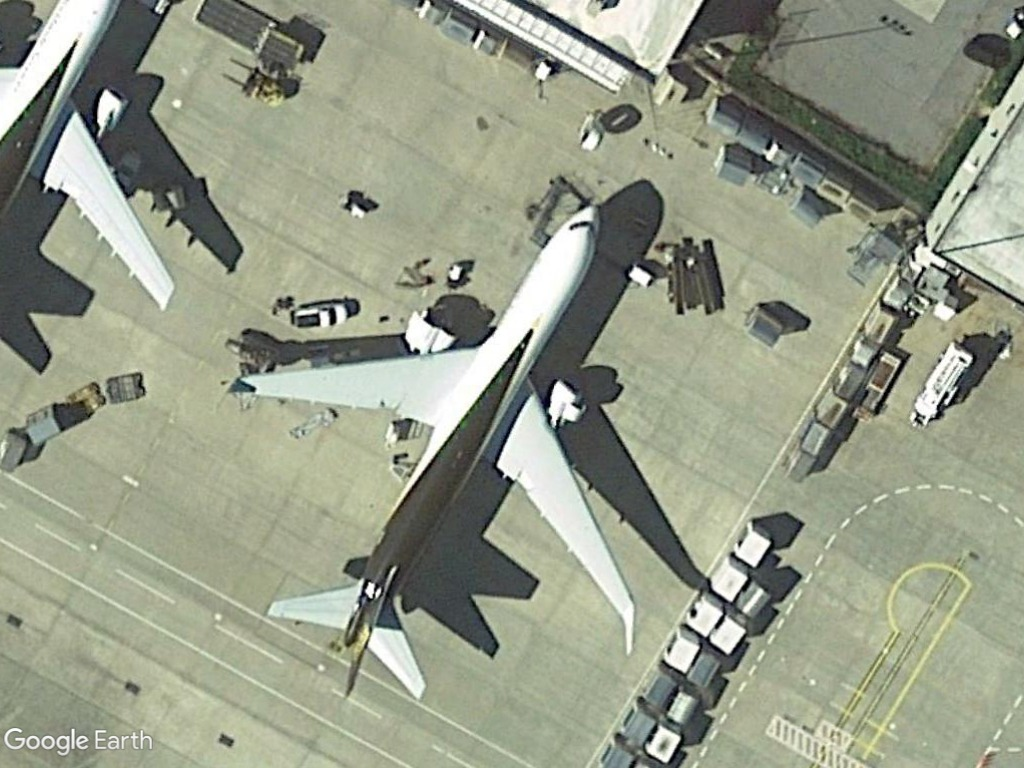airliner: (221, 195, 637, 700)
